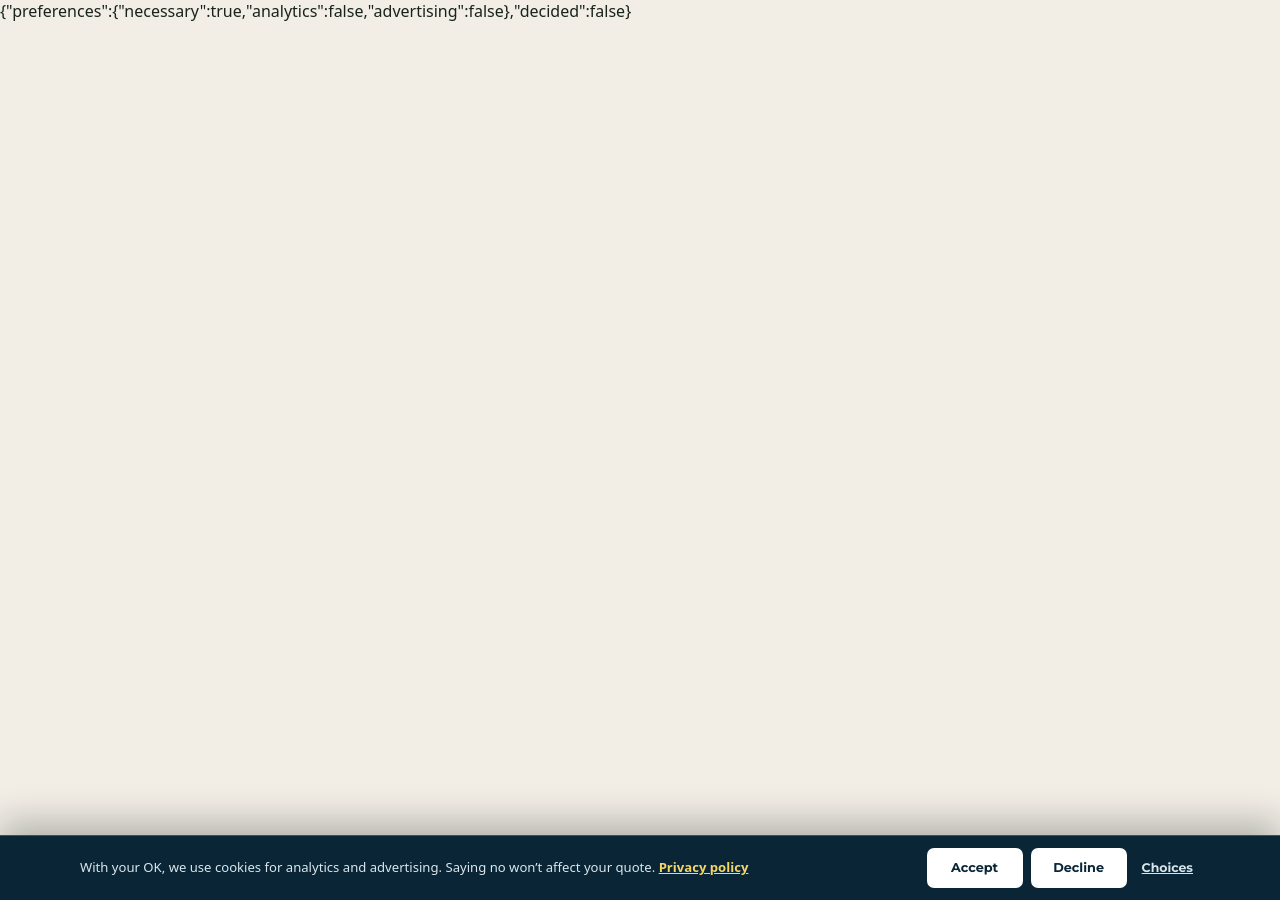
website privacy consent › customizes session recording and advertising independently
Click the button "Choices" at (1167, 868), box 1135,848 -> 1200,888
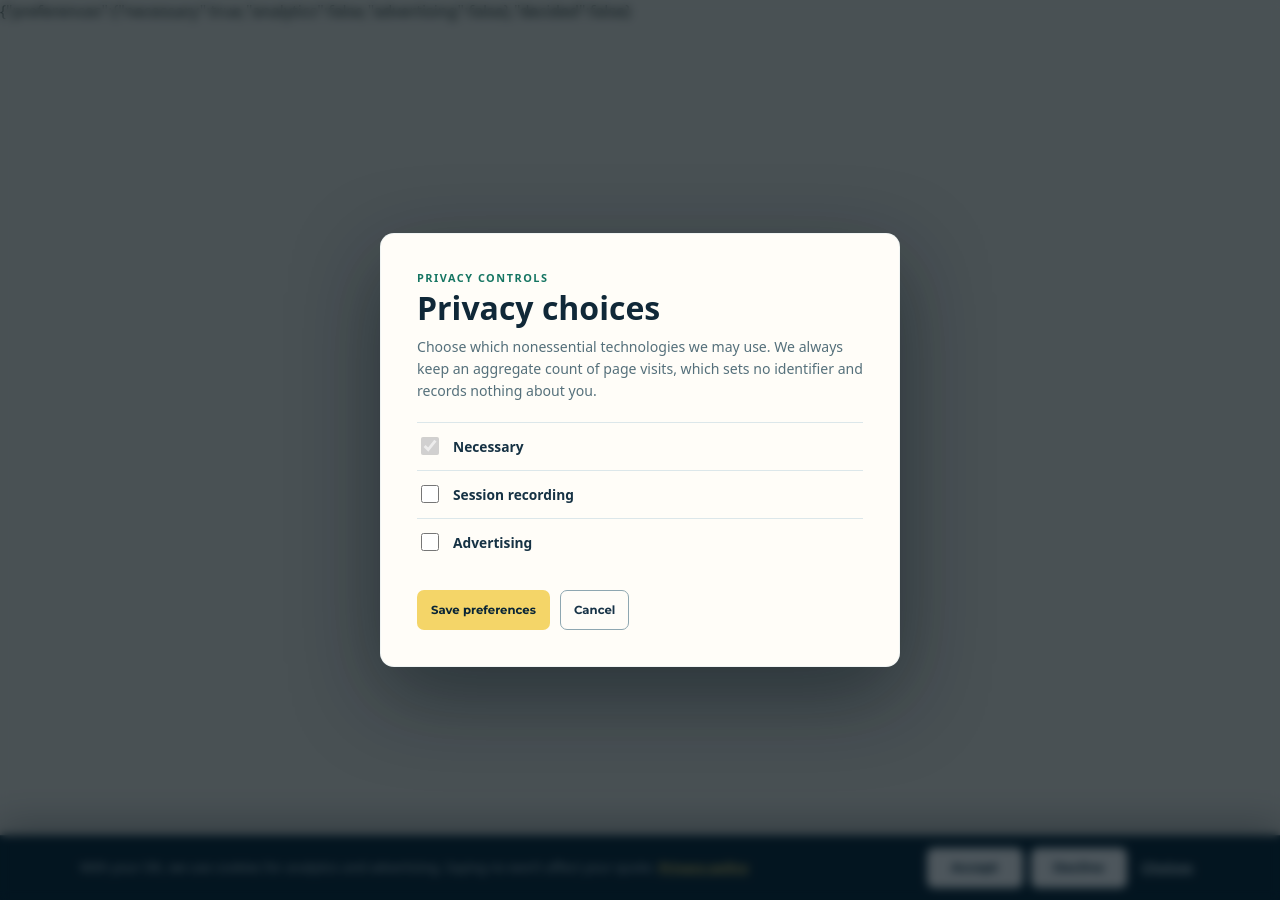
Now the checkbox named "Necessary" is disabled, box 421,437 -> 439,455
Click the checkbox named "Session recording" at (430, 494), box 421,485 -> 439,503
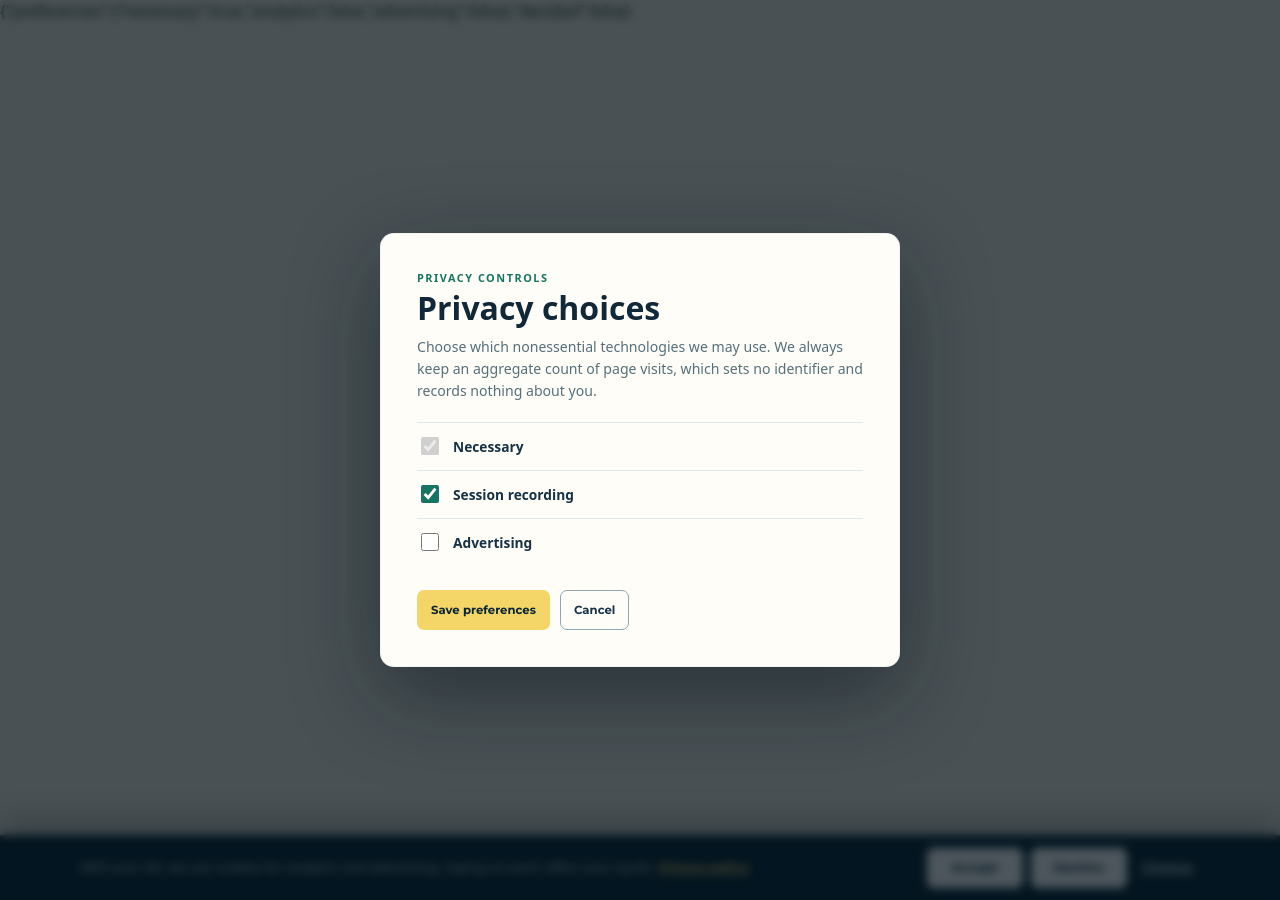
Click the button "Save preferences" at (483, 610), box 417,590 -> 550,630
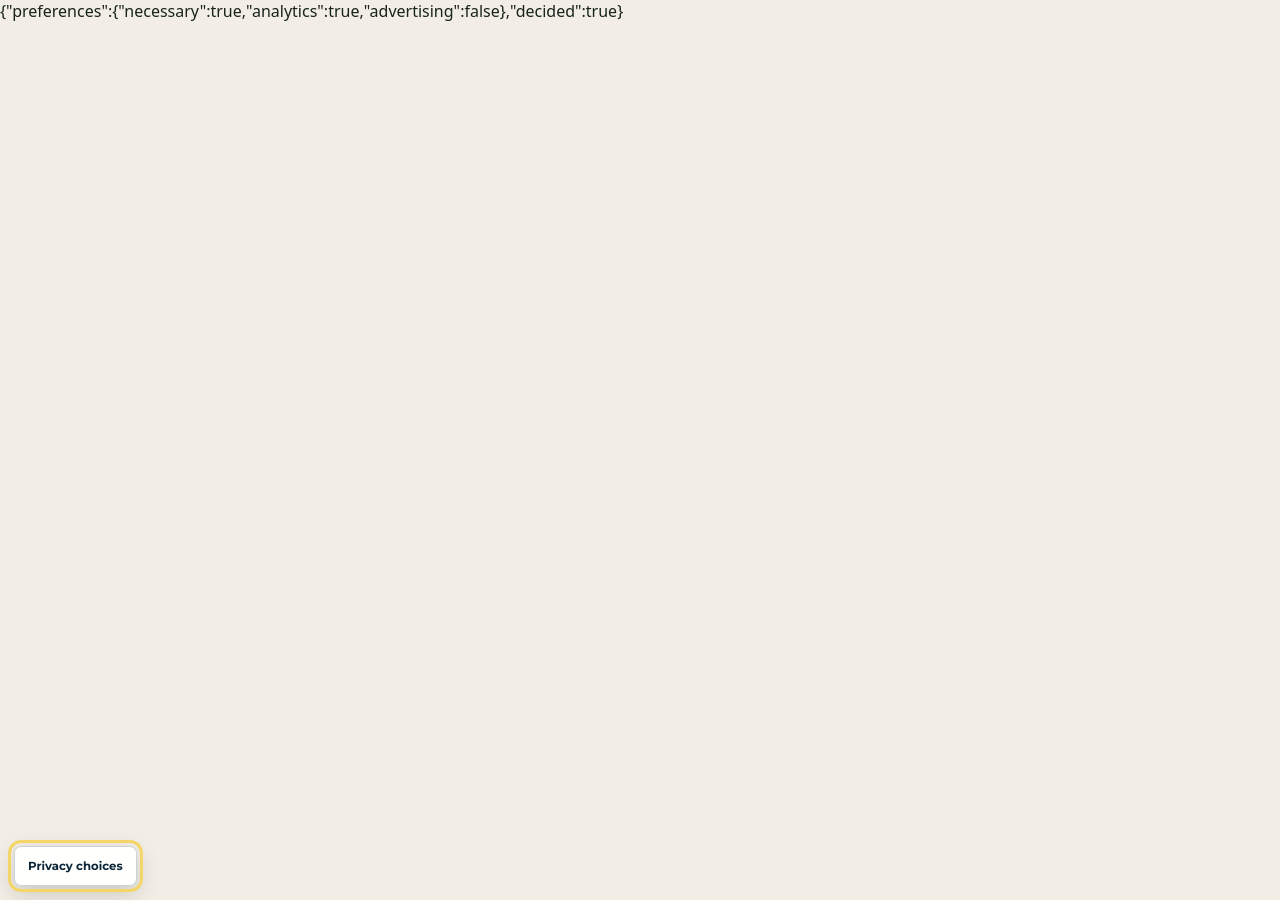
Expected: the text "\"advertising\":false" is shown, 0,0 -> 623,22
Now the text "\"analytics\":true" is shown, box 0,0 -> 623,22
